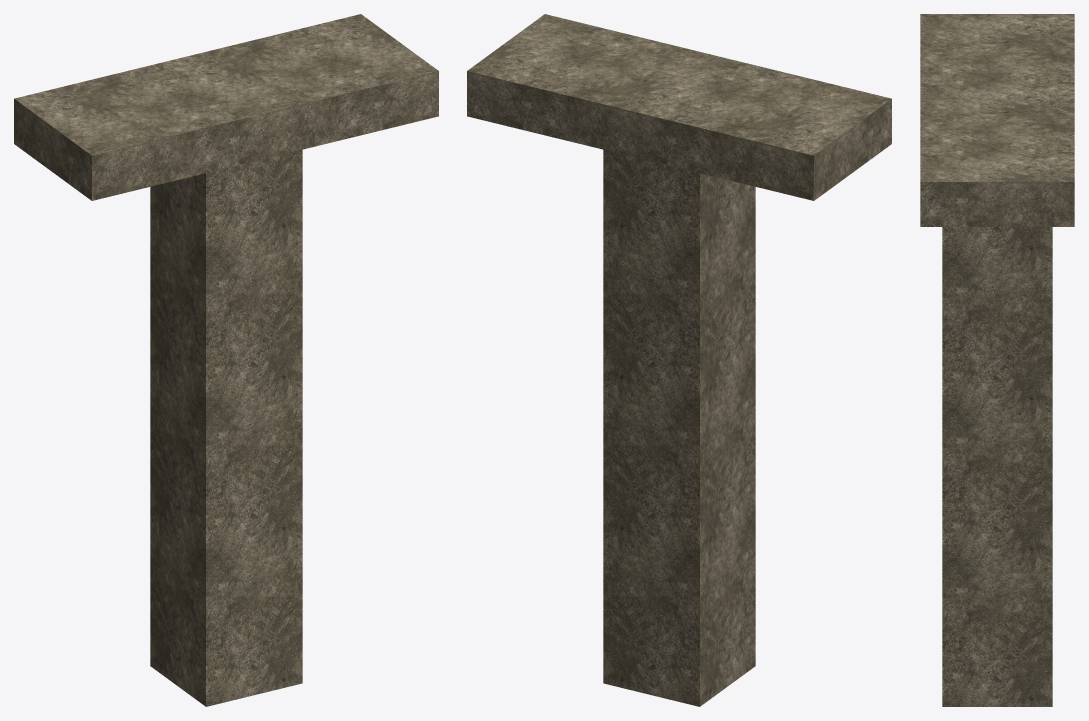
Rendered from pier.glb.
3 views of the same model, side by side, from view 1: azimuth 30°, elevation 25°; view 2: azimuth 150°, elevation 25°; view 3: azimuth 270°, elevation 25° (orthographic).
Parts seen in each view (by area): view 1: Pier; view 2: Pier; view 3: Pier.
Part boxes in pixels (bbox=[...]): Pier: bbox=[14, 14, 438, 706]; Pier: bbox=[467, 14, 891, 706]; Pier: bbox=[920, 14, 1074, 706].
Size of the model in its own units: 7.2 by 11.7 by 2.8.
1 material, 1 textured.
